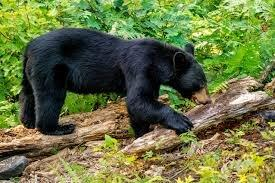bear: (20, 27, 213, 137)
